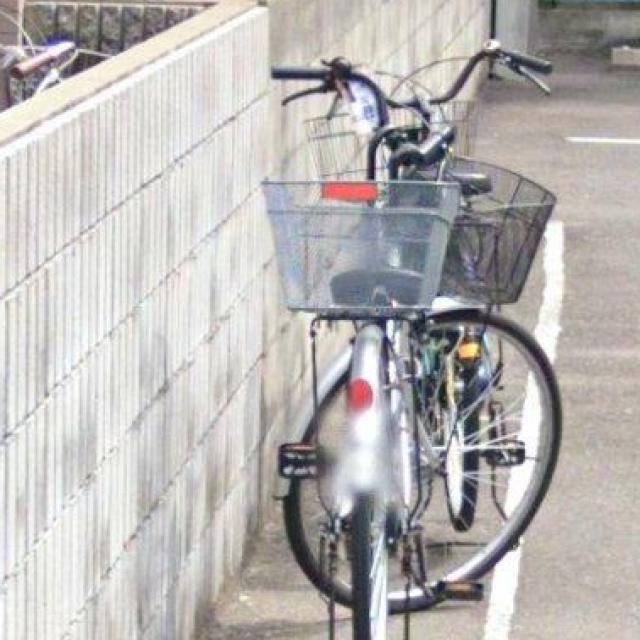bicycle: (279, 13, 546, 541), (271, 102, 469, 615)
